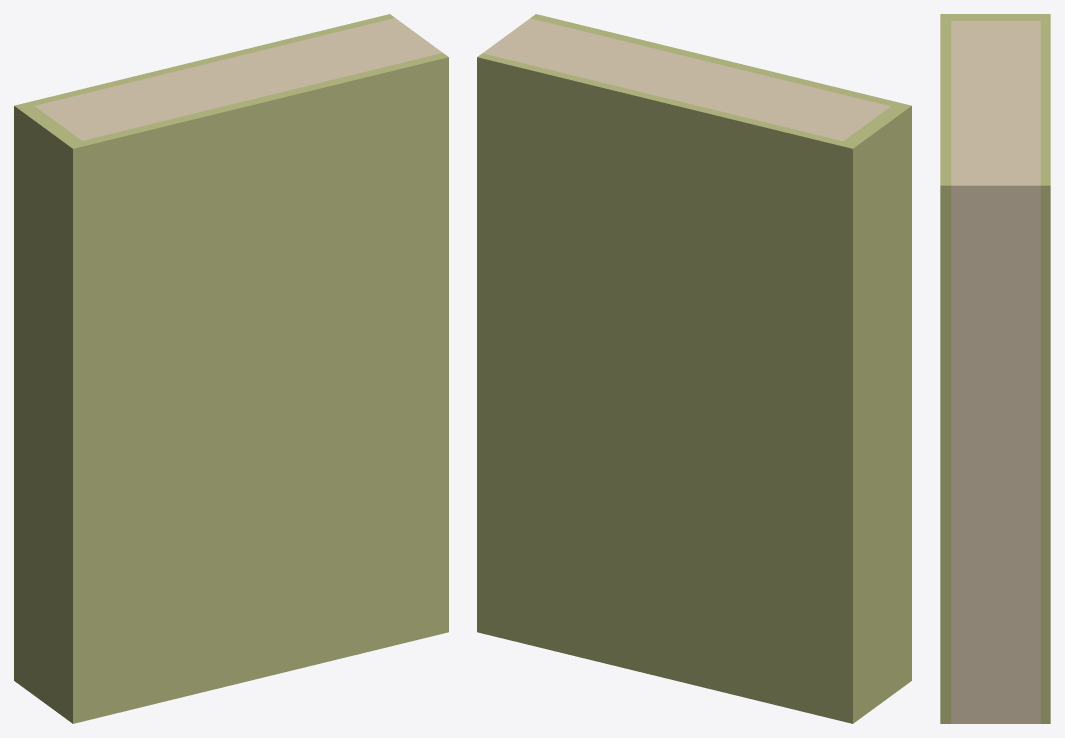
The model's file is Books_4.fbx.
The picture shows the model from 3 angles, left to right: view 1: azimuth 30°, elevation 25°; view 2: azimuth 150°, elevation 25°; view 3: azimuth 270°, elevation 25°; orthographic projection. The views are drawn at different scales.
Parts seen in each view (by area): view 1: pCube767; view 2: pCube767; view 3: pCube767.
Part boxes in pixels (<box>): pCube767: <box>14,14,448,723</box>; pCube767: <box>477,14,911,723</box>; pCube767: <box>940,14,1050,723</box>.
Size of the model in its own units: 0.3679 by 0.5379 by 0.1.
1 material, 1 textured.
